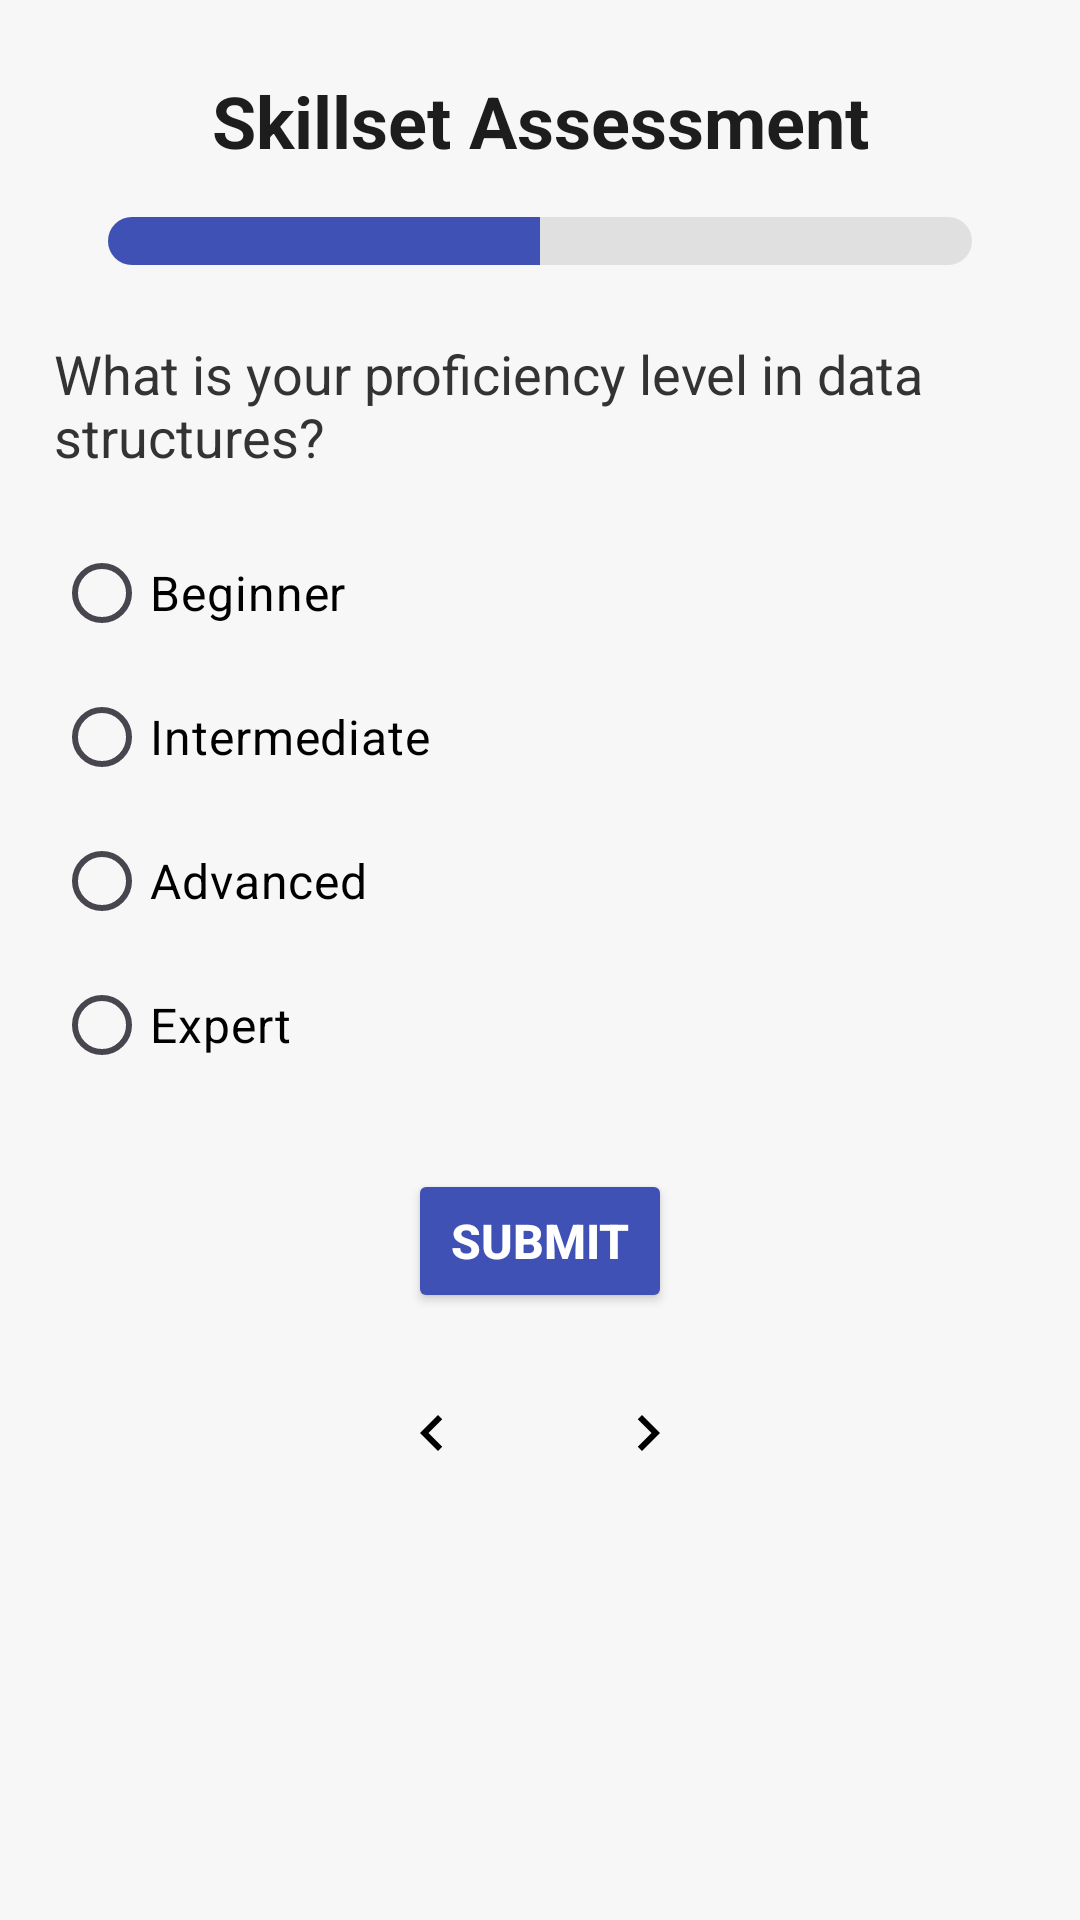

Screen size 1080×1920. Icon name, then its center in pixels as (x,y):
next: (649,1433)
previous: (431,1433)
